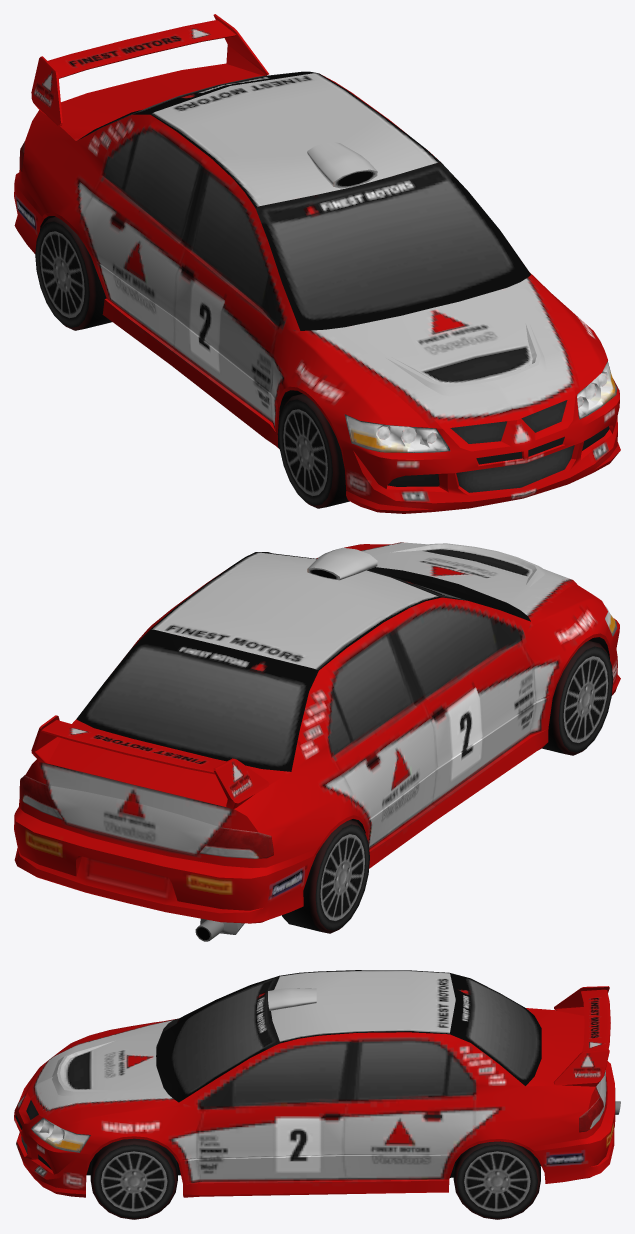
The model's file is Mitsubishi Lancer.fbx.
The picture shows the model from 3 angles, top to bottom: view 1: azimuth 30°, elevation 25°; view 2: azimuth 150°, elevation 25°; view 3: azimuth 270°, elevation 25°; orthographic projection. The views are drawn at different scales.
Visible parts, largest first — view 1: body_geo, L_front_wheel_geo #370597.003, L_front_wheel_geo #370597.002; view 2: body_geo, L_front_wheel_geo #370597.002, L_front_wheel_geo #370597.003; view 3: body_geo, L_front_wheel_geo #370597, L_front_wheel_geo #370597.001.
Boxes of the visible parts, box(x1,y1,x2,y2) form: body_geo: box(14, 14, 620, 513); L_front_wheel_geo #370597.003: box(278, 393, 349, 508); L_front_wheel_geo #370597.002: box(35, 216, 111, 330); body_geo: box(14, 542, 620, 941); L_front_wheel_geo #370597.002: box(282, 820, 369, 933); L_front_wheel_geo #370597.003: box(542, 640, 613, 755); body_geo: box(14, 970, 620, 1197); L_front_wheel_geo #370597: box(90, 1138, 177, 1219); L_front_wheel_geo #370597.001: box(453, 1141, 540, 1219).
Size of the model in its own units: 176 by 143 by 440.
Materials: 5 (5 with a texture image).
